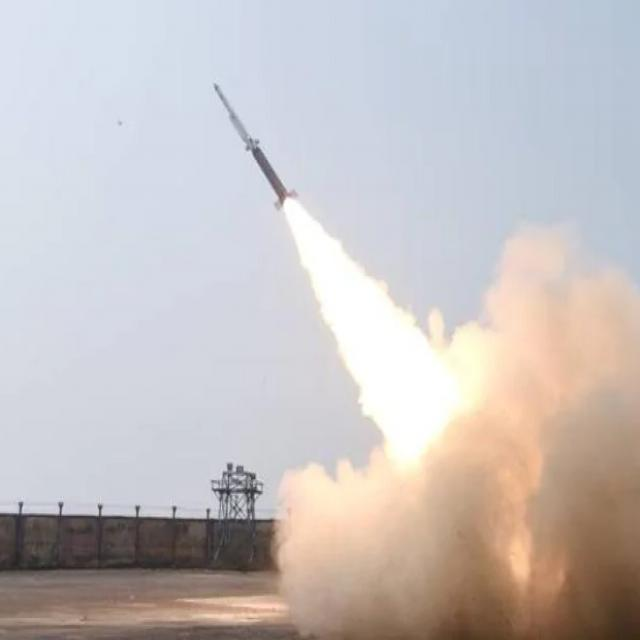Missile: (209, 73, 300, 216)
